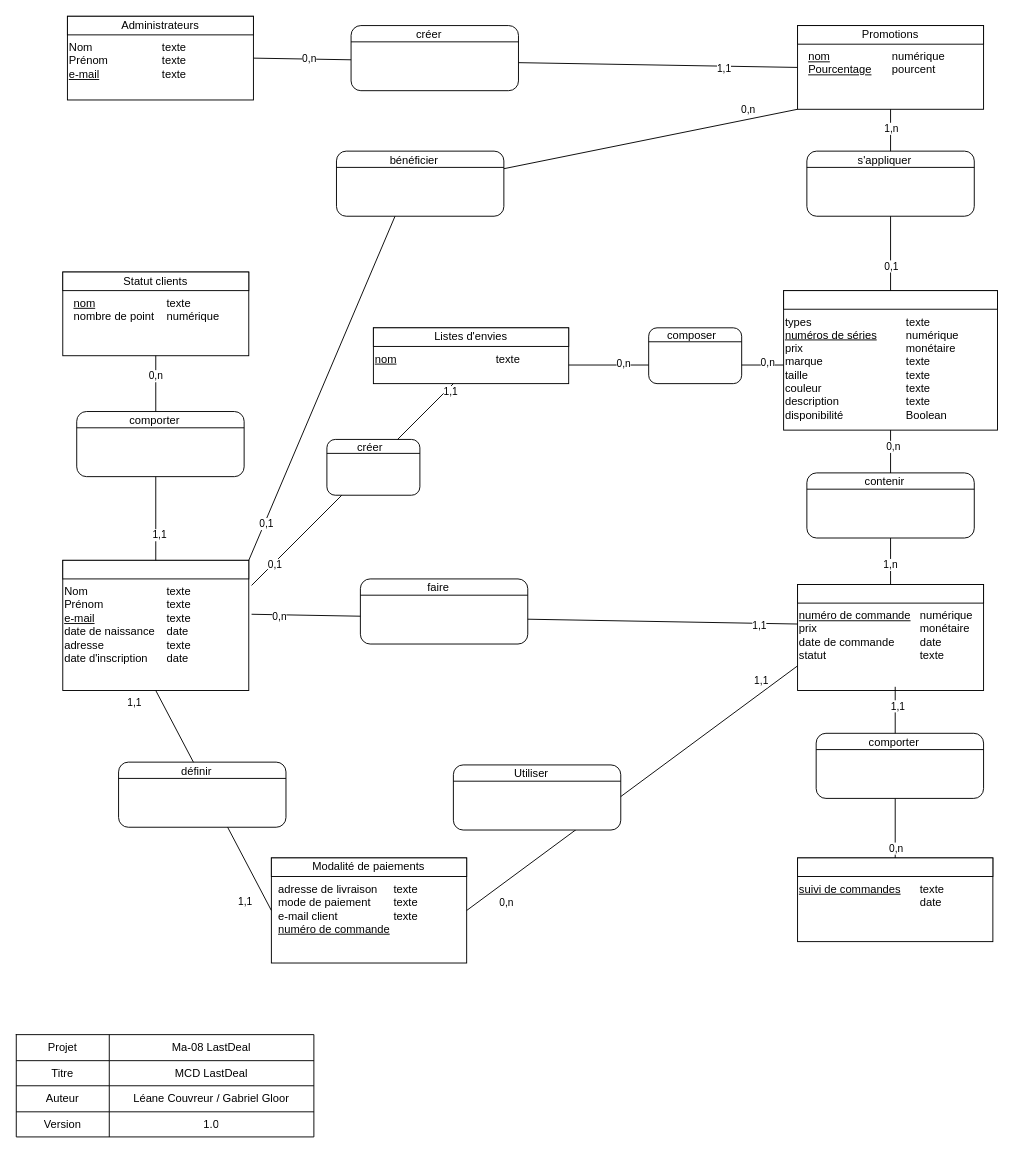
Some shapes in this 1028 by 1153 pixel diagram are drawn without their labels. The box of each missing label's shape, as (x1, y1, x2, y2) in pixels:
Articles: (783, 290, 998, 309)
clients: (62, 559, 249, 579)
Commandes: (797, 584, 984, 603)
Status commandes: (797, 857, 993, 877)
